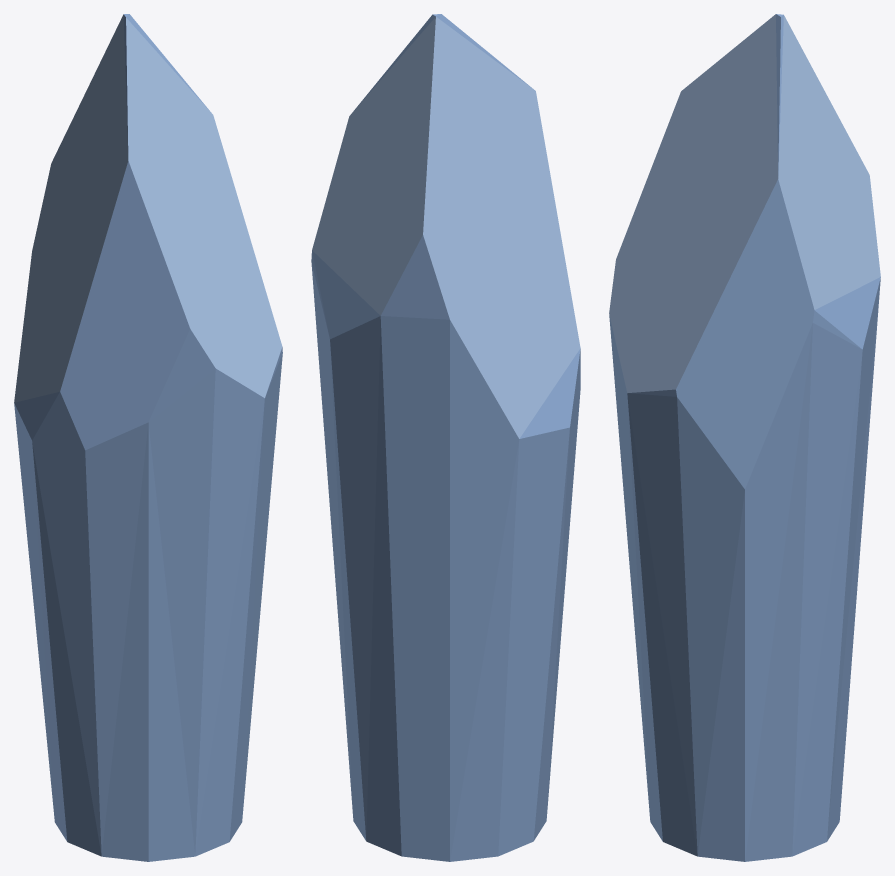
Rendered from crystal_12.fbx.
The picture shows the model from 3 angles, left to right: view 1: azimuth 30°, elevation 25°; view 2: azimuth 150°, elevation 25°; view 3: azimuth 270°, elevation 25°; orthographic projection. The views are drawn at different scales.
Visible parts, largest first — view 1: crystal_12; view 2: crystal_12; view 3: crystal_12.
Boxes of the visible parts, box(x1,y1,x2,y2) form: crystal_12: box(14, 14, 282, 861); crystal_12: box(311, 14, 580, 861); crystal_12: box(609, 14, 880, 861).
Bounding box in the file's own units: 35.13 × 115 × 35.13.
